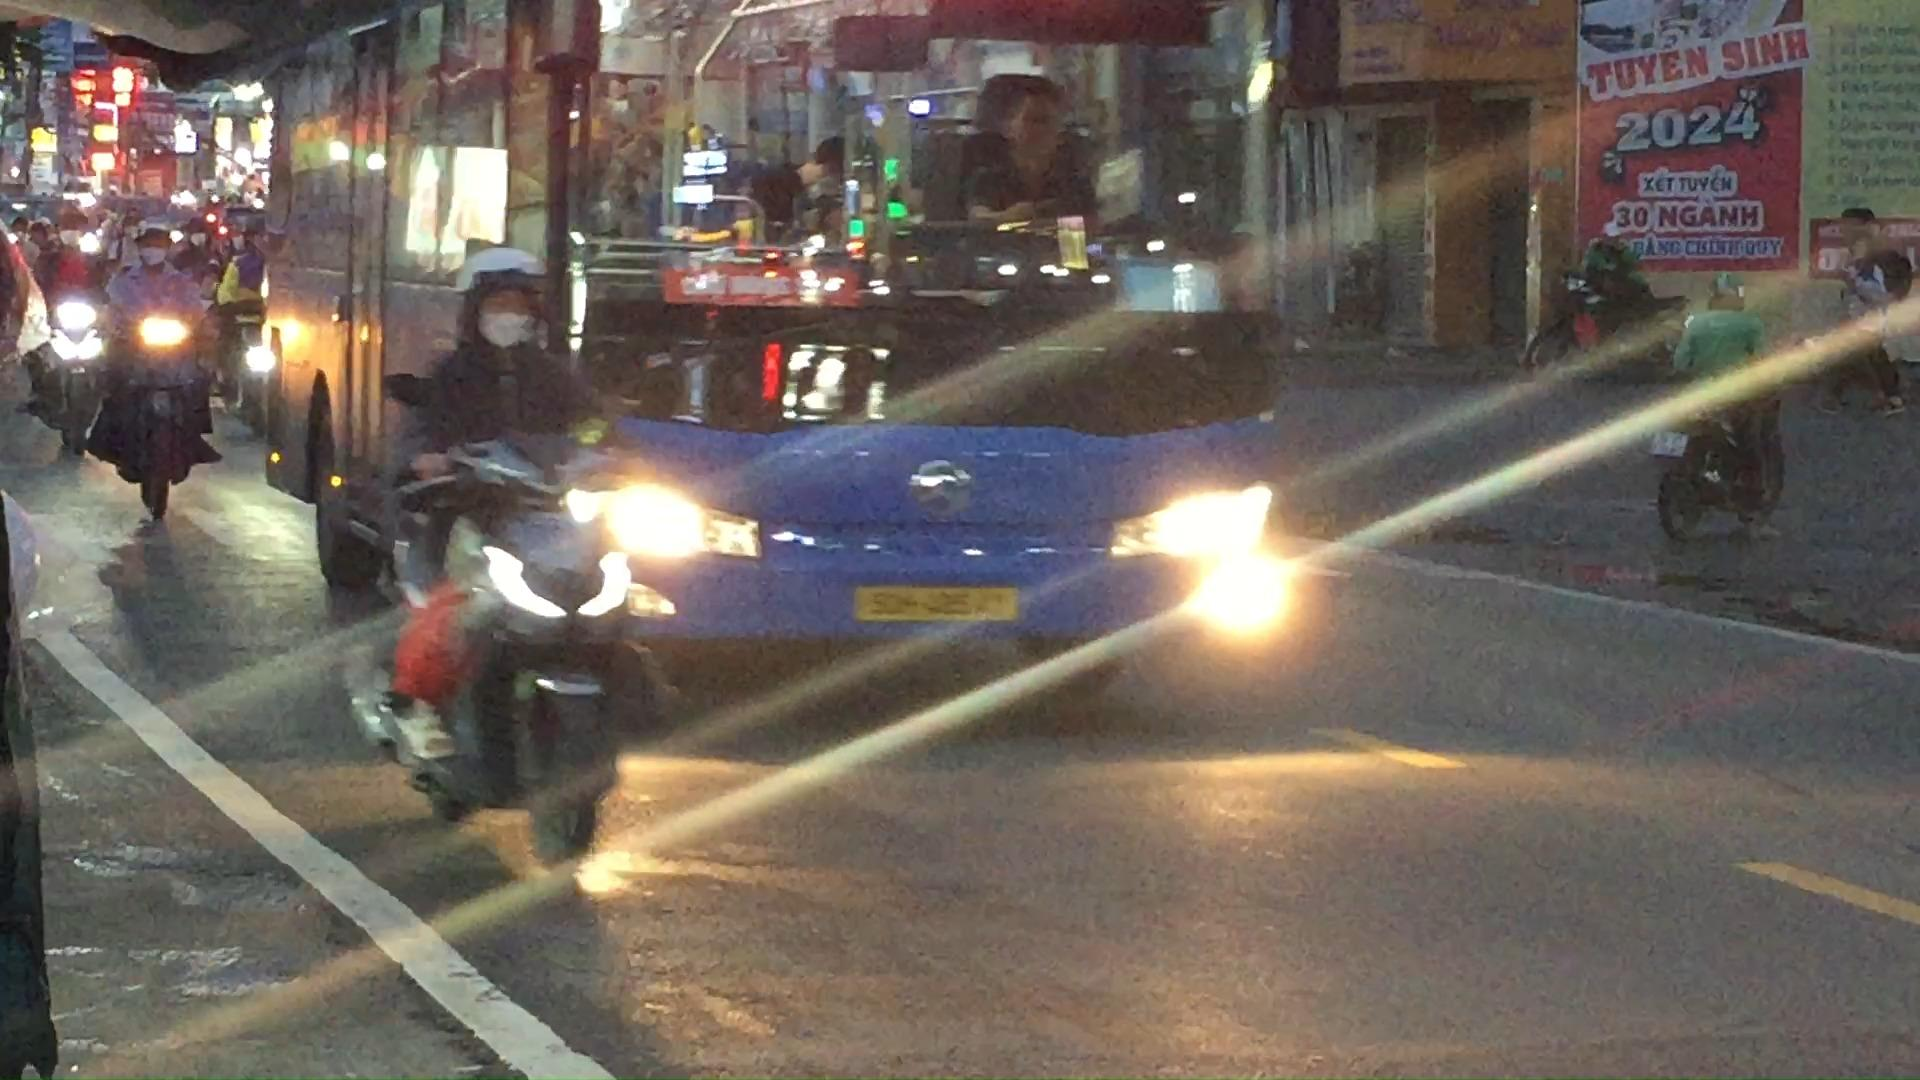bien_so: (853, 579, 1024, 625)
